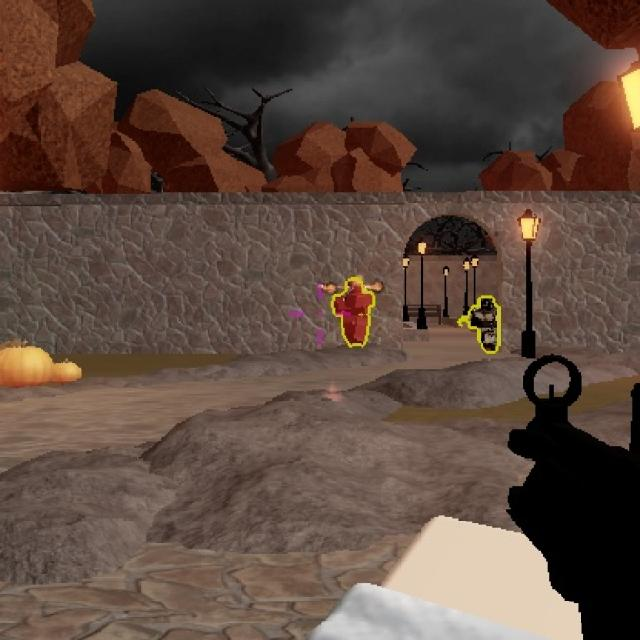player: (337, 275, 369, 348), (472, 295, 506, 359)
